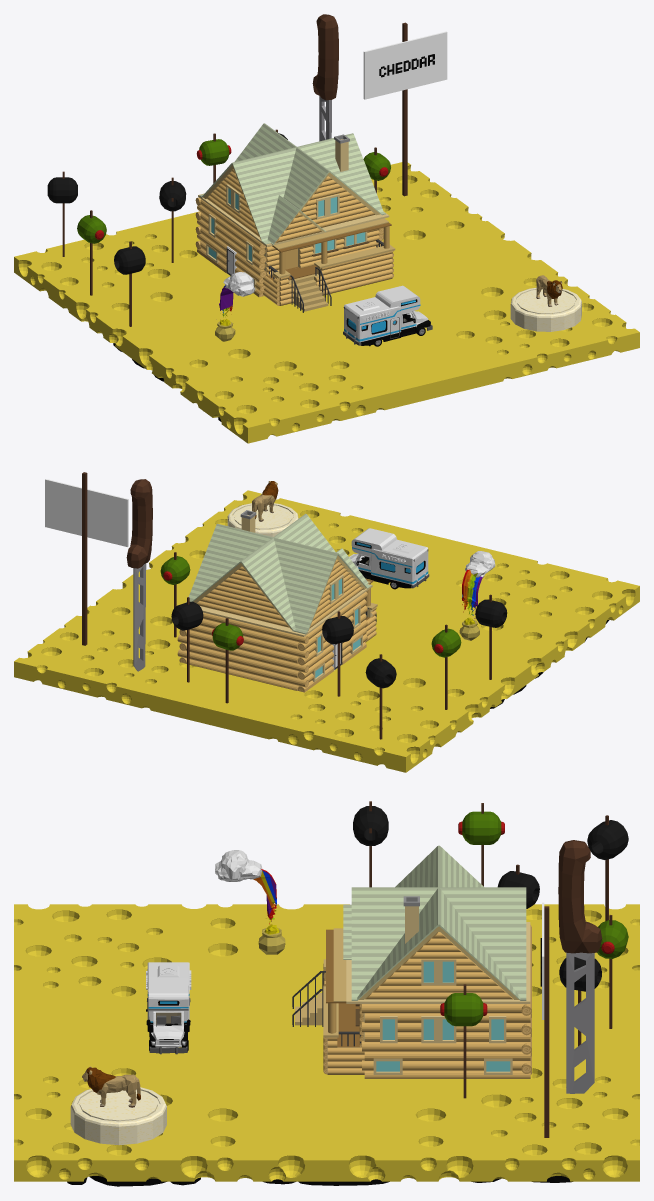
The picture shows the model from 3 angles, top to bottom: view 1: azimuth 30°, elevation 25°; view 2: azimuth 150°, elevation 25°; view 3: azimuth 270°, elevation 25°; orthographic projection. The views are drawn at different scales.
Parts seen in each view (by area): view 1: Cube.022, Cube.1516, Cube.023, VEHICLES_CAMPER, Cylinder.016, Cube.024, OBJRANDOM_RAINBOW, Sphere.017, Sphere.016, Sphere.020, Sphere.018, Sphere.022 (+1 smaller); view 2: Cube.022, Cube.1516, Cube.023, VEHICLES_CAMPER, Cube.024, OBJRANDOM_RAINBOW, Cylinder.016, Sphere.020, Sphere.016, Sphere.022, Sphere.017, Sphere.021 (+3 smaller); view 3: Cube.022, Cube.1516, Cube.024, Cylinder.016, VEHICLES_CAMPER, OBJRANDOM_RAINBOW, Cube.023, Sphere.019, Sphere.016, Sphere.018, Curve.014, Sphere.017 (+4 smaller).
Part boxes in pixels (x1,y1,x2,y2): Cube.022: [14, 162, 639, 443]; Cube.1516: [195, 123, 395, 312]; Cube.023: [363, 22, 447, 196]; VEHICLES_CAMPER: [343, 285, 432, 346]; Cylinder.016: [510, 287, 581, 331]; Cube.024: [312, 14, 338, 141]; OBJRANDOM_RAINBOW: [215, 272, 254, 341]; Sphere.017: [114, 241, 145, 326]; Sphere.016: [47, 171, 77, 256]; Sphere.020: [159, 177, 186, 262]; Sphere.018: [77, 210, 106, 295]; Sphere.022: [196, 133, 231, 183]; Cube.022: [14, 490, 639, 772]; Cube.1516: [177, 510, 377, 692]; Cube.023: [45, 472, 128, 645]; VEHICLES_CAMPER: [349, 528, 429, 589]; Cube.024: [126, 479, 152, 671]; OBJRANDOM_RAINBOW: [459, 551, 495, 640]; Cylinder.016: [227, 503, 298, 536]; Sphere.020: [322, 611, 353, 696]; Sphere.016: [365, 654, 396, 739]; Sphere.022: [212, 618, 243, 703]; Sphere.017: [475, 594, 507, 679]; Sphere.021: [171, 597, 203, 682]; Cube.022: [14, 904, 639, 1181]; Cube.1516: [292, 845, 531, 1078]; Cube.024: [558, 840, 602, 1093]; Cylinder.016: [70, 1087, 166, 1145]; VEHICLES_CAMPER: [146, 962, 191, 1054]; OBJRANDOM_RAINBOW: [215, 850, 285, 954]; Cube.023: [540, 902, 549, 1137]; Sphere.019: [440, 984, 487, 1098]; Sphere.016: [587, 815, 628, 920]; Sphere.018: [458, 803, 504, 886]; Curve.014: [67, 1176, 572, 1186]; Sphere.017: [353, 801, 388, 887].
Bounding box in the file's own units: 3917 × 1980 × 4000.
44 materials, 4 textured.
